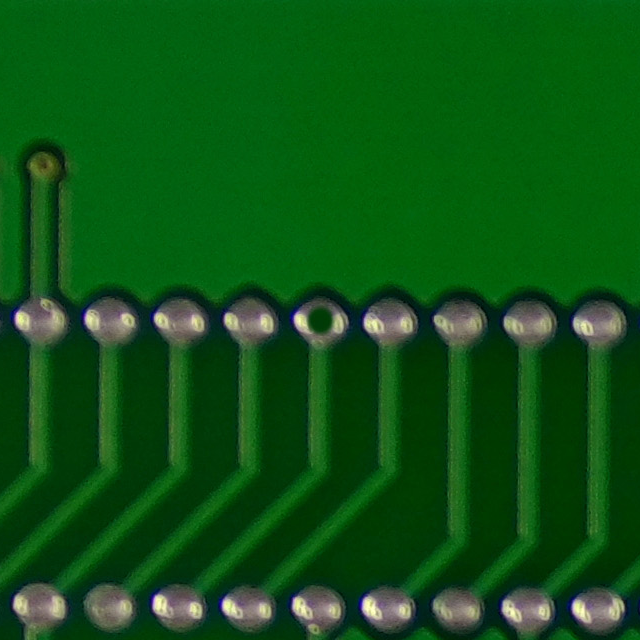missing_hole: (283, 292, 357, 349)
